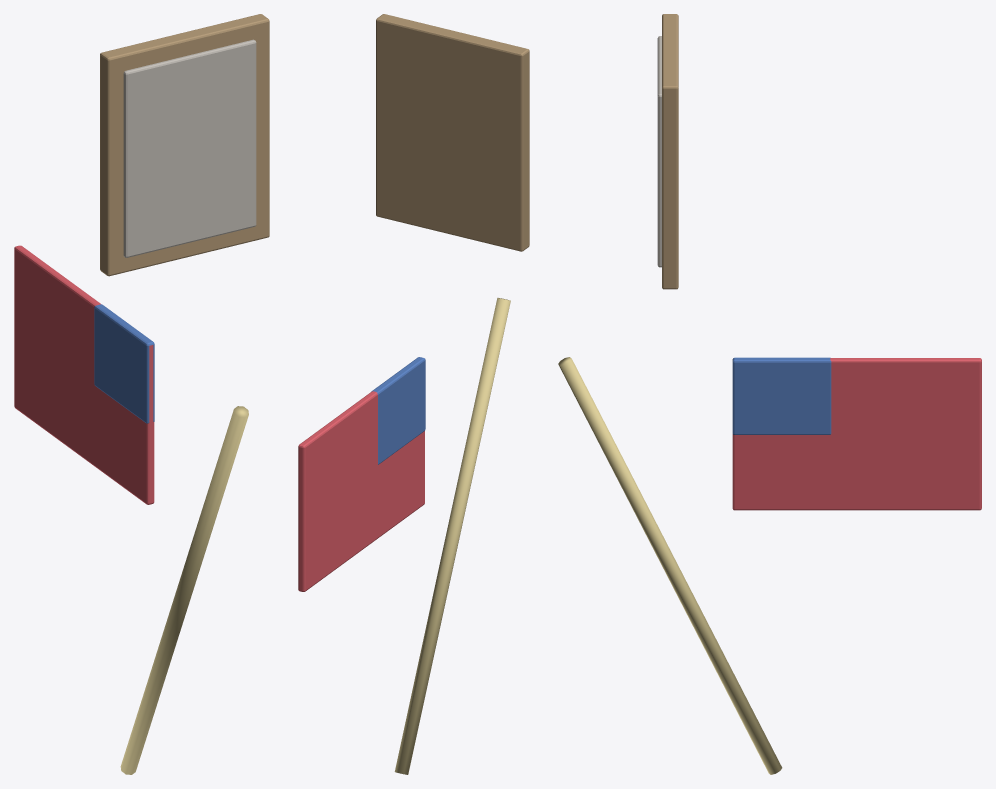
File: flag_portrait_set.glb
3 views of the same model, side by side, from view 1: azimuth 30°, elevation 25°; view 2: azimuth 150°, elevation 25°; view 3: azimuth 270°, elevation 25° (orthographic). The views are drawn at different scales.
Parts seen in each view (by area): view 1: portrait_img, nf_flag, portrait_frame, nf_pole, nf_canton; view 2: portrait_frame, nf_flag, nf_pole, nf_canton; view 3: nf_flag, nf_canton, nf_pole, portrait_frame, portrait_img.
Part boxes in pixels (bbox=[...]): portrait_img: bbox=[123, 39, 256, 257]; nf_flag: bbox=[14, 245, 154, 504]; portrait_frame: bbox=[100, 14, 269, 276]; nf_pole: bbox=[120, 406, 248, 774]; nf_canton: bbox=[94, 304, 154, 423]; portrait_frame: bbox=[376, 14, 529, 251]; nf_flag: bbox=[298, 391, 424, 591]; nf_pole: bbox=[394, 298, 510, 774]; nf_canton: bbox=[371, 357, 425, 464]; nf_flag: bbox=[732, 358, 981, 510]; nf_canton: bbox=[732, 357, 831, 434]; nf_pole: bbox=[558, 357, 782, 774]; portrait_frame: bbox=[662, 14, 678, 289]; portrait_img: bbox=[657, 36, 661, 267].
Bounding box in the file's own units: 0.42 × 1.92 × 1.02.
